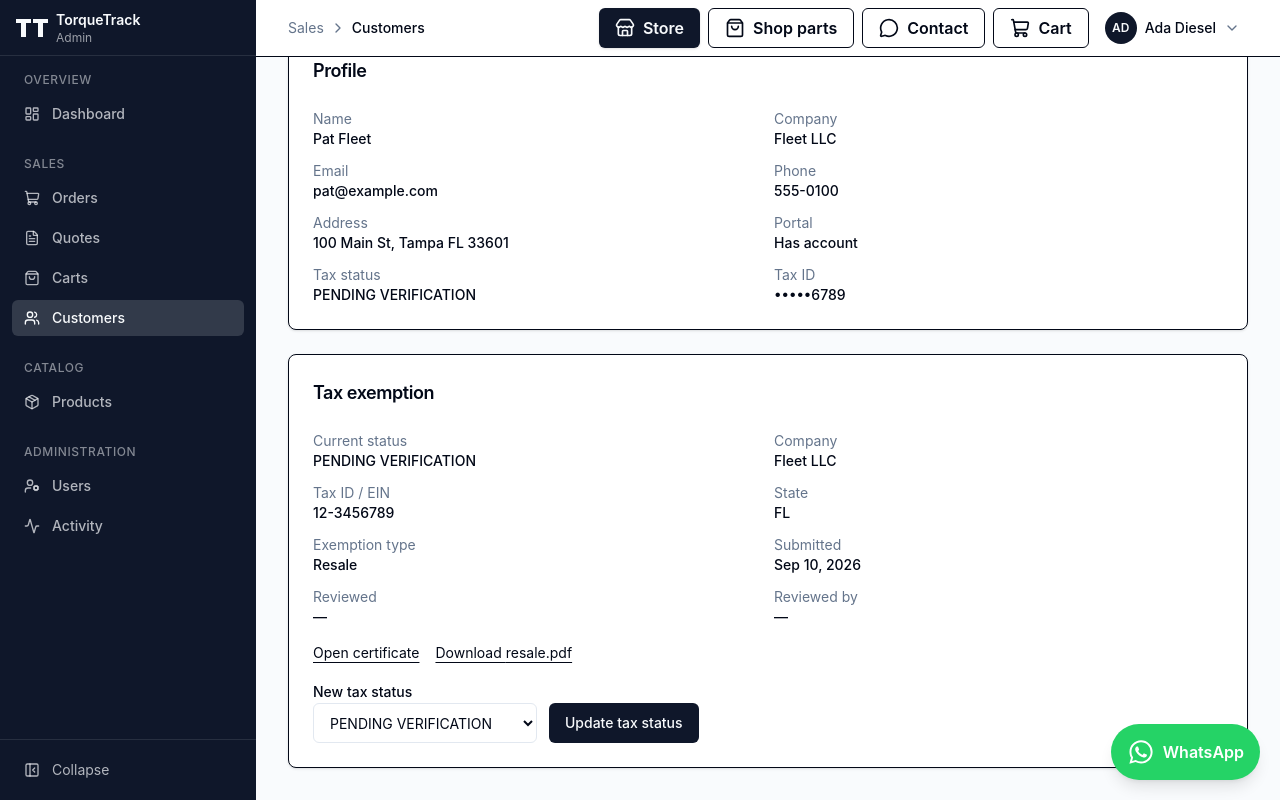
it: CustomerDetailPage › verifies the exemption and shows the reviewer
(page scrolled)
Expected: the text "12-3456789" is shown, [313,504,394,521]
Select "VERIFIED" in the dropdown labelled "New tax status" at (425, 723), box [313,703,537,743]
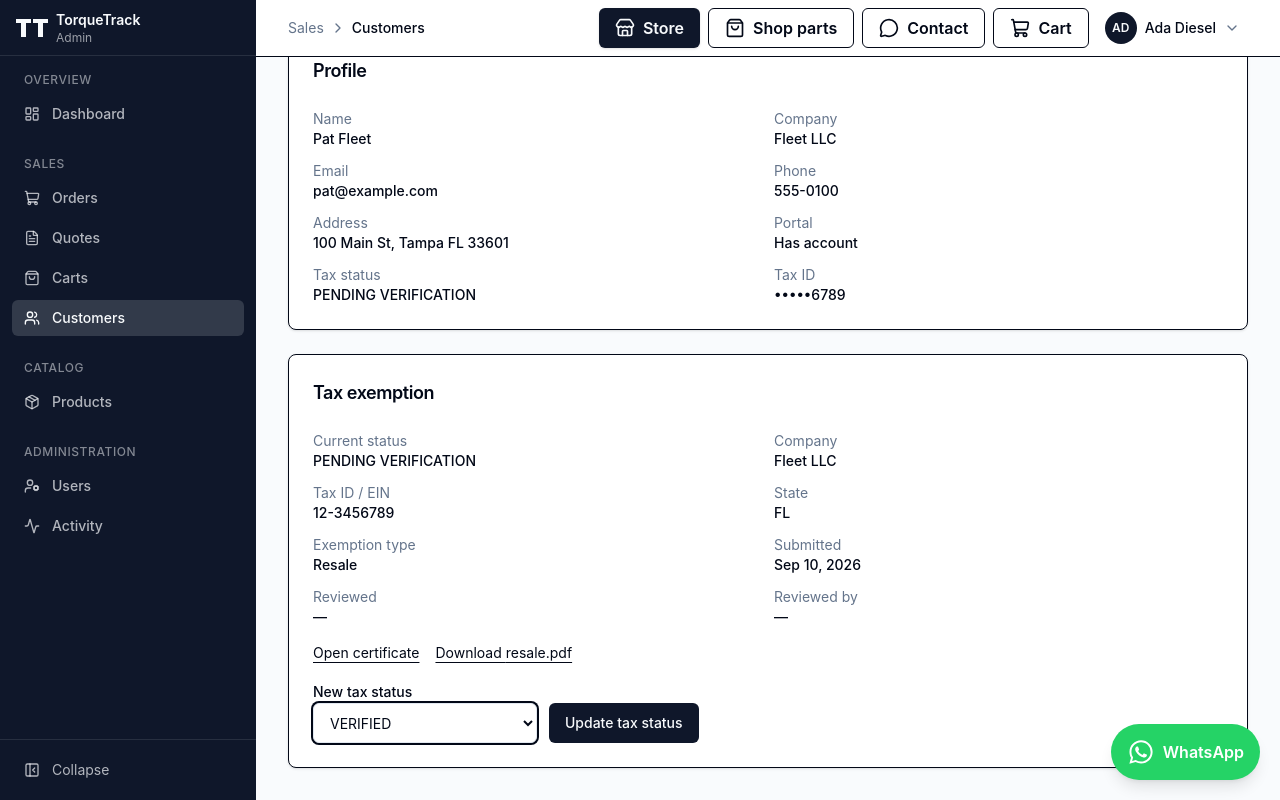
Click the button "Update tax status" at (624, 723), box [549,703,699,743]
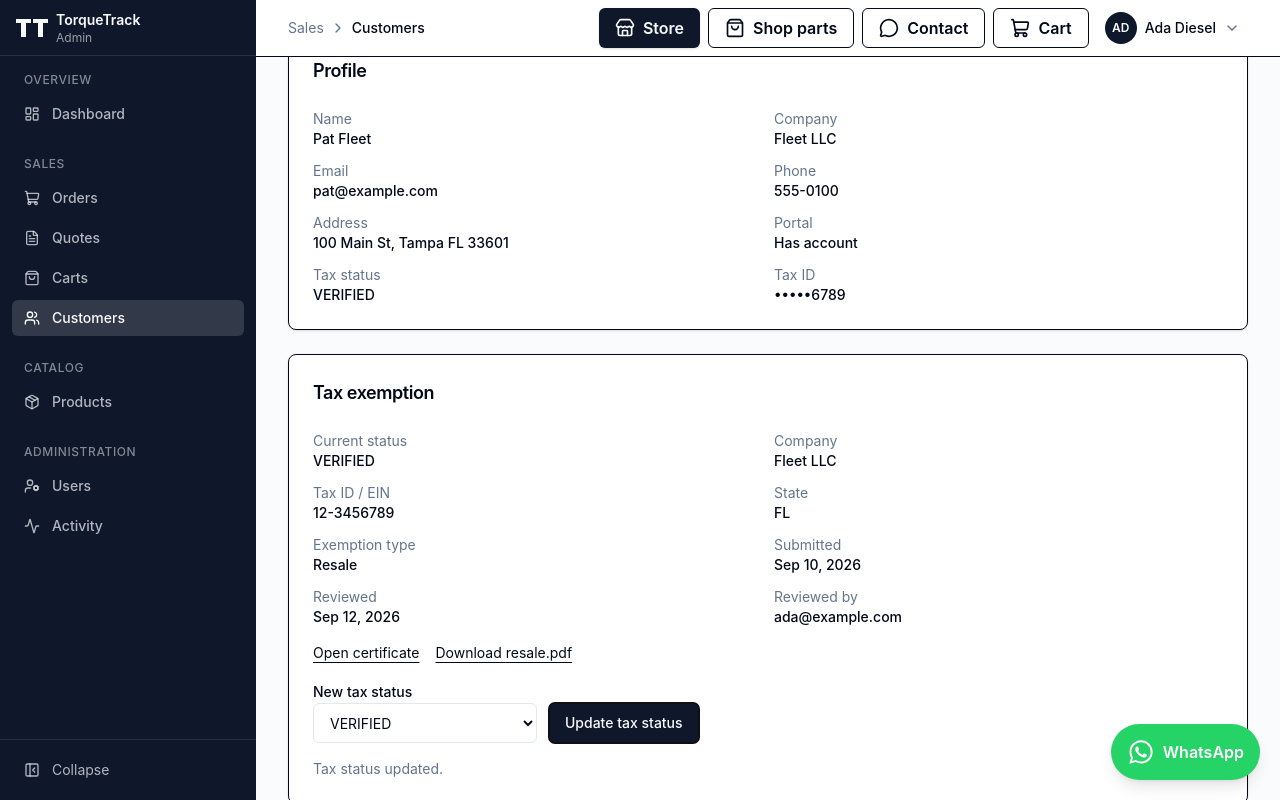
Result: the text "ada@example.com" is shown at [774,608,902,625]
Result: the text "VERIFIED" next to "•••••6789" is shown at [313,286,375,303]
